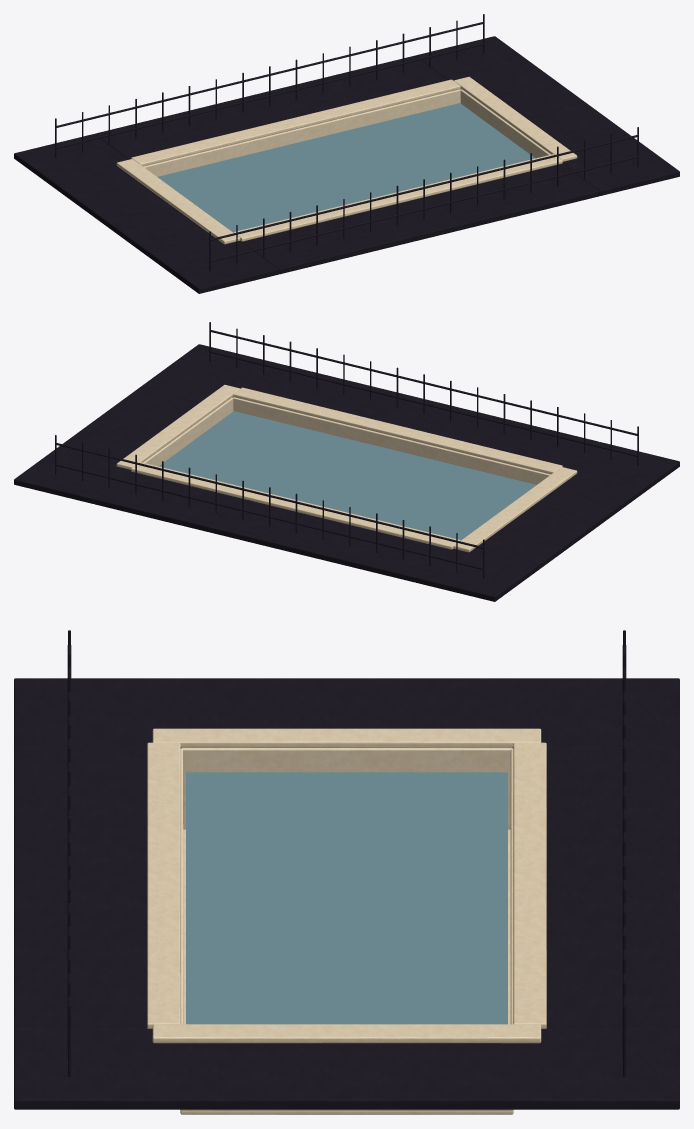
File: explore3d__finish_pool_edge.glb
3 renders of one model, top to bottom at view 1: azimuth 30°, elevation 25°; view 2: azimuth 150°, elevation 25°; view 3: azimuth 270°, elevation 25°, orthographic. The views are drawn at different scales.
Visible parts, largest first — view 1: exterior_fence_post.009; view 2: exterior_fence_post.009; view 3: exterior_fence_post.009.
Part boxes in pixels (x1,y1,x2,y2): exterior_fence_post.009: [14, 14, 679, 293]; exterior_fence_post.009: [14, 322, 679, 601]; exterior_fence_post.009: [14, 630, 679, 1114].
Bounding box in the file's own units: 18 × 3.1 × 12.
4 materials, 3 textured.
